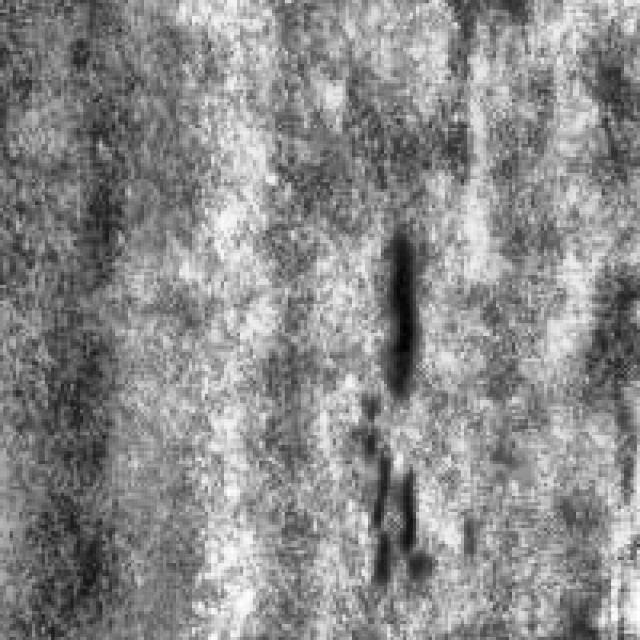Patches: (371, 214, 435, 403), (352, 428, 422, 598)
